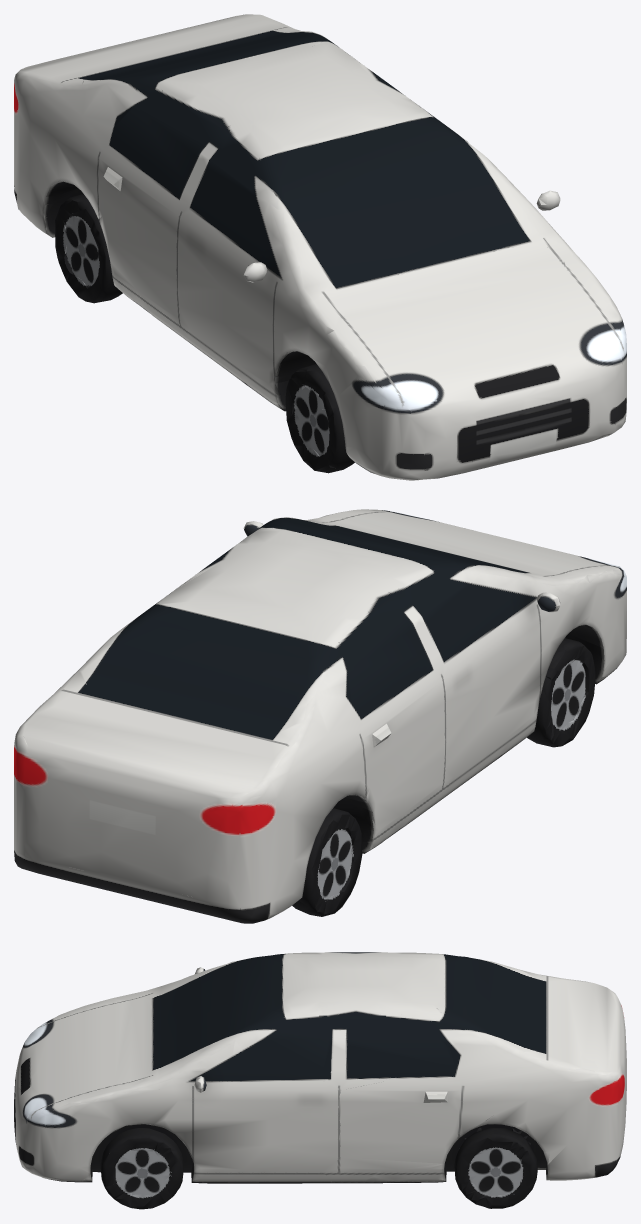
The model's file is toyota_vios.mid.glb.
3 views of the same model, one above another, from view 1: azimuth 30°, elevation 25°; view 2: azimuth 150°, elevation 25°; view 3: azimuth 270°, elevation 25° (orthographic). The views are drawn at different scales.
Visible parts, largest first — view 1: toyota_vios; view 2: toyota_vios; view 3: toyota_vios.
Boxes of the visible parts, x1,y1,x2,y2 form: toyota_vios: (14, 14, 626, 480); toyota_vios: (14, 509, 626, 923); toyota_vios: (14, 952, 626, 1209).
Bounding box in the file's own units: 2.01 × 1.47 × 4.42.
1 material, 1 textured.
